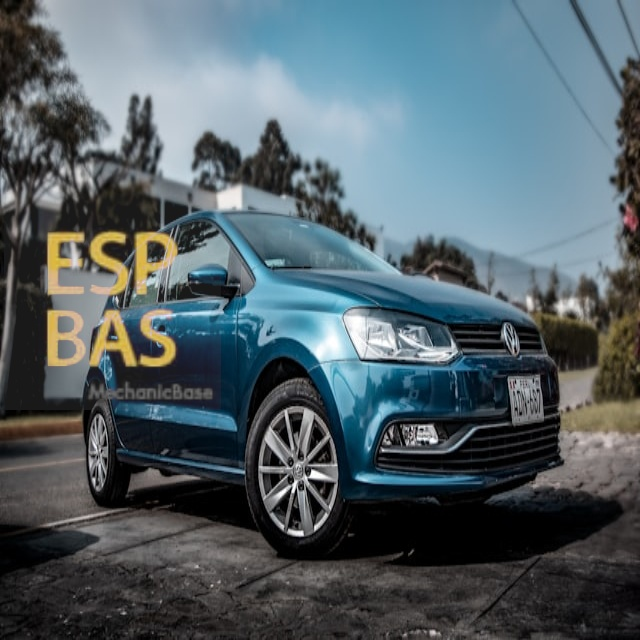symbol: (4, 193, 221, 410)
